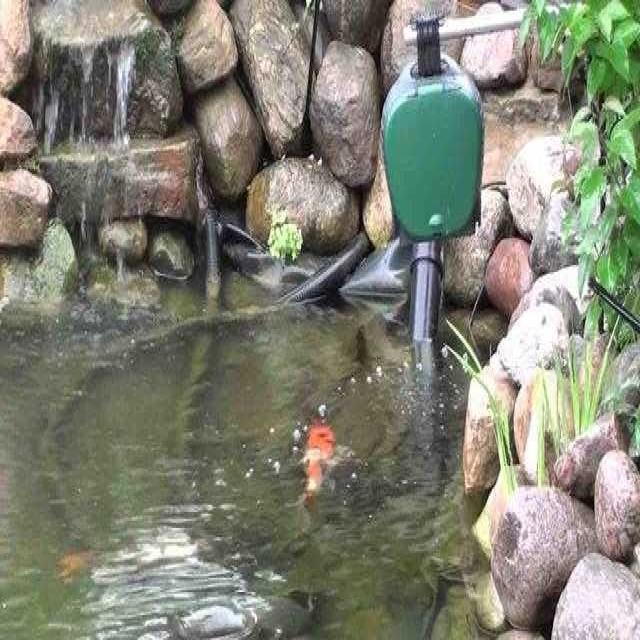Ponds: (2, 1, 640, 640)
